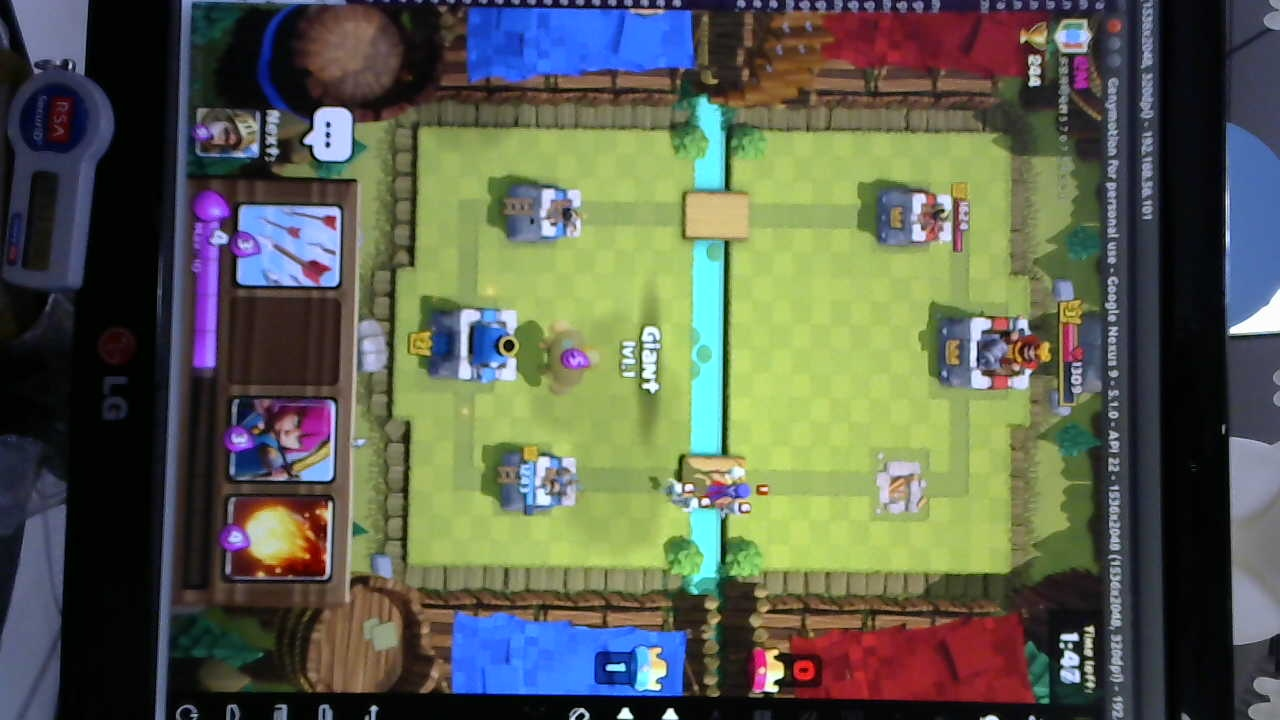arena: (498, 178, 582, 245), (506, 450, 582, 512)
darena: (868, 452, 930, 524)
earena: (870, 185, 953, 250)
eking: (944, 312, 1041, 391)
king: (434, 305, 526, 384)
witch: (692, 464, 752, 508)
